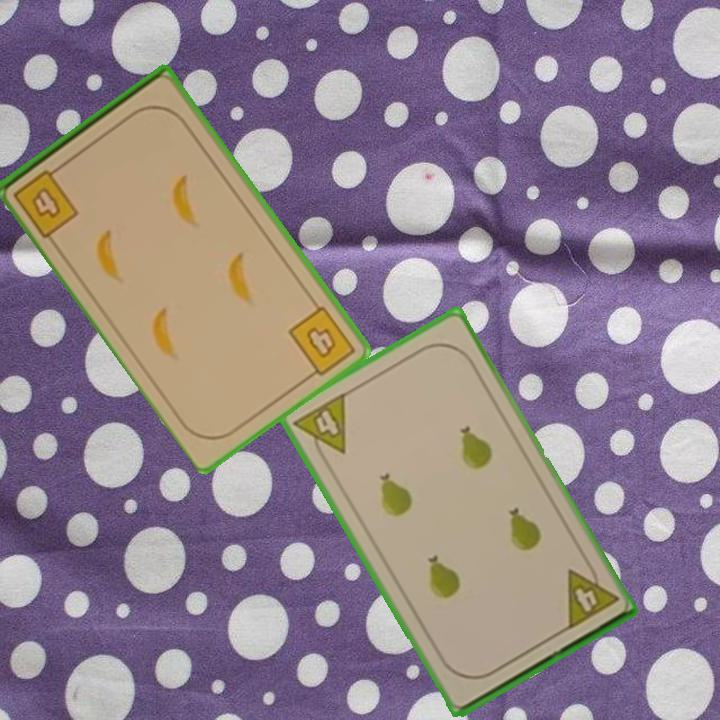4b: (285, 302, 358, 383), (9, 160, 82, 240)
4p: (290, 389, 349, 467), (562, 557, 621, 633)
